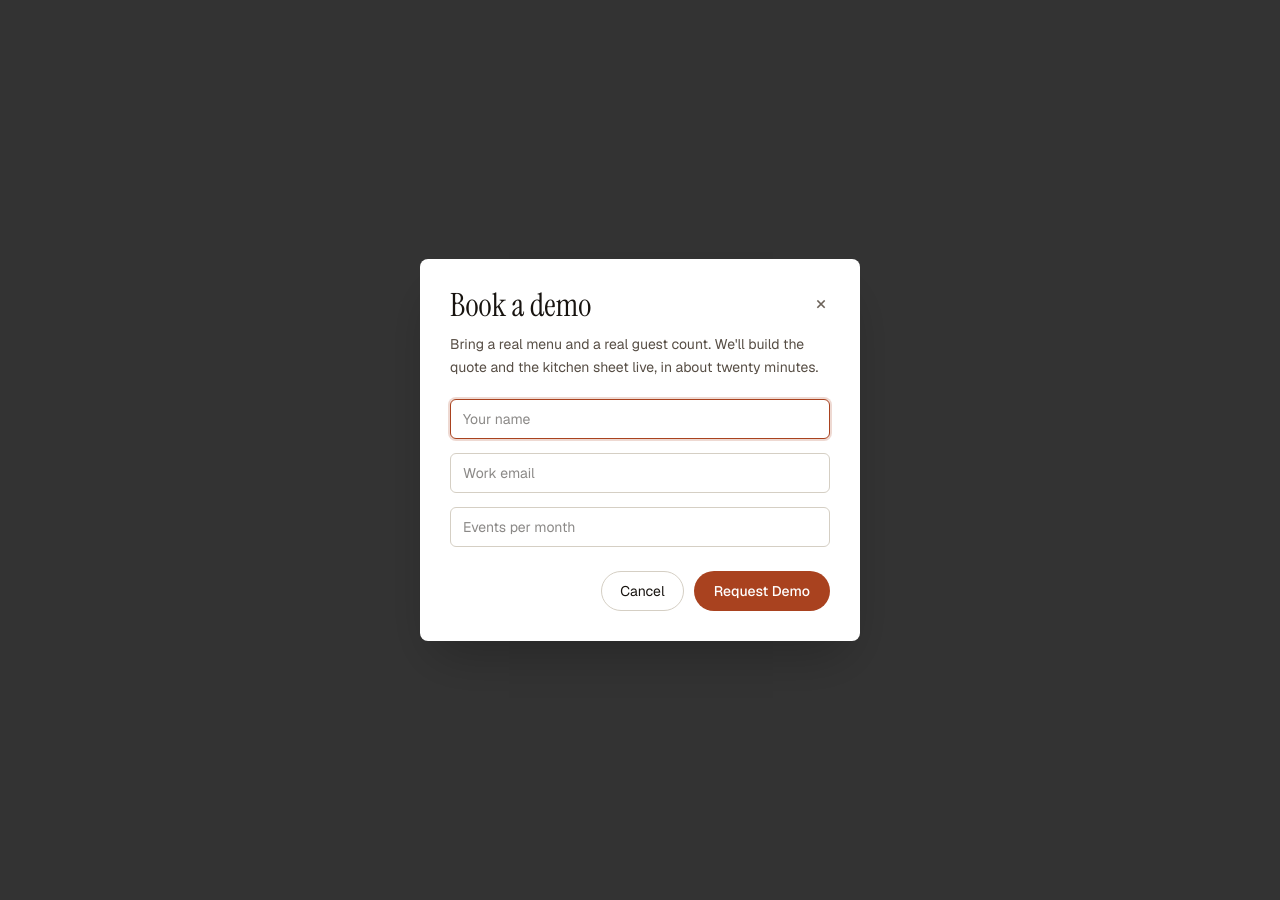
DemoModal (REL-482) › submits the request and shows the success state (AC8)
The image size is (1280, 900).
Type "Jane Doe" into the field labelled "Your name" at (640, 418), box [450,398,830,438]
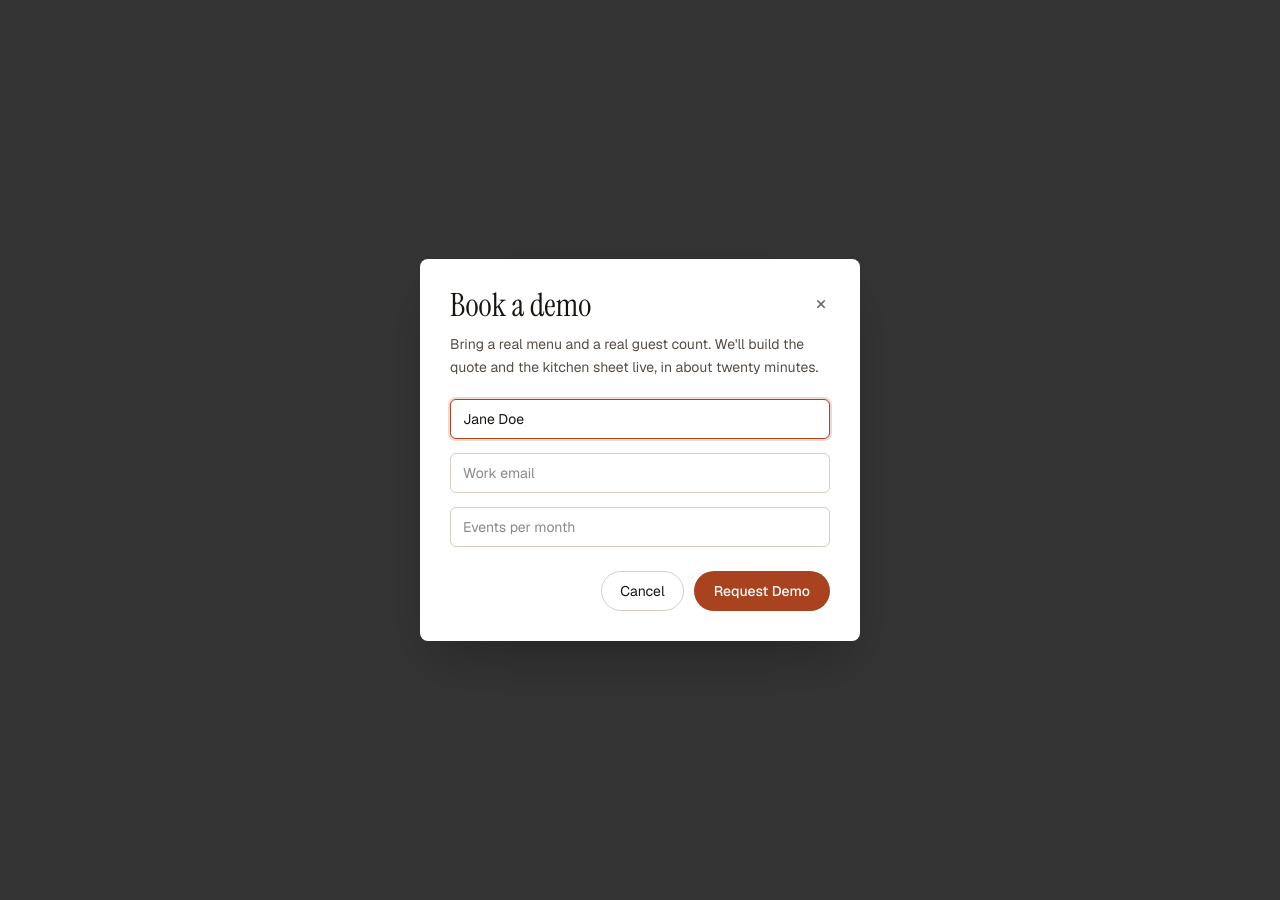
Type "jane@kitchen.com" into the field labelled "Work email" at (640, 472), box [450,452,830,492]
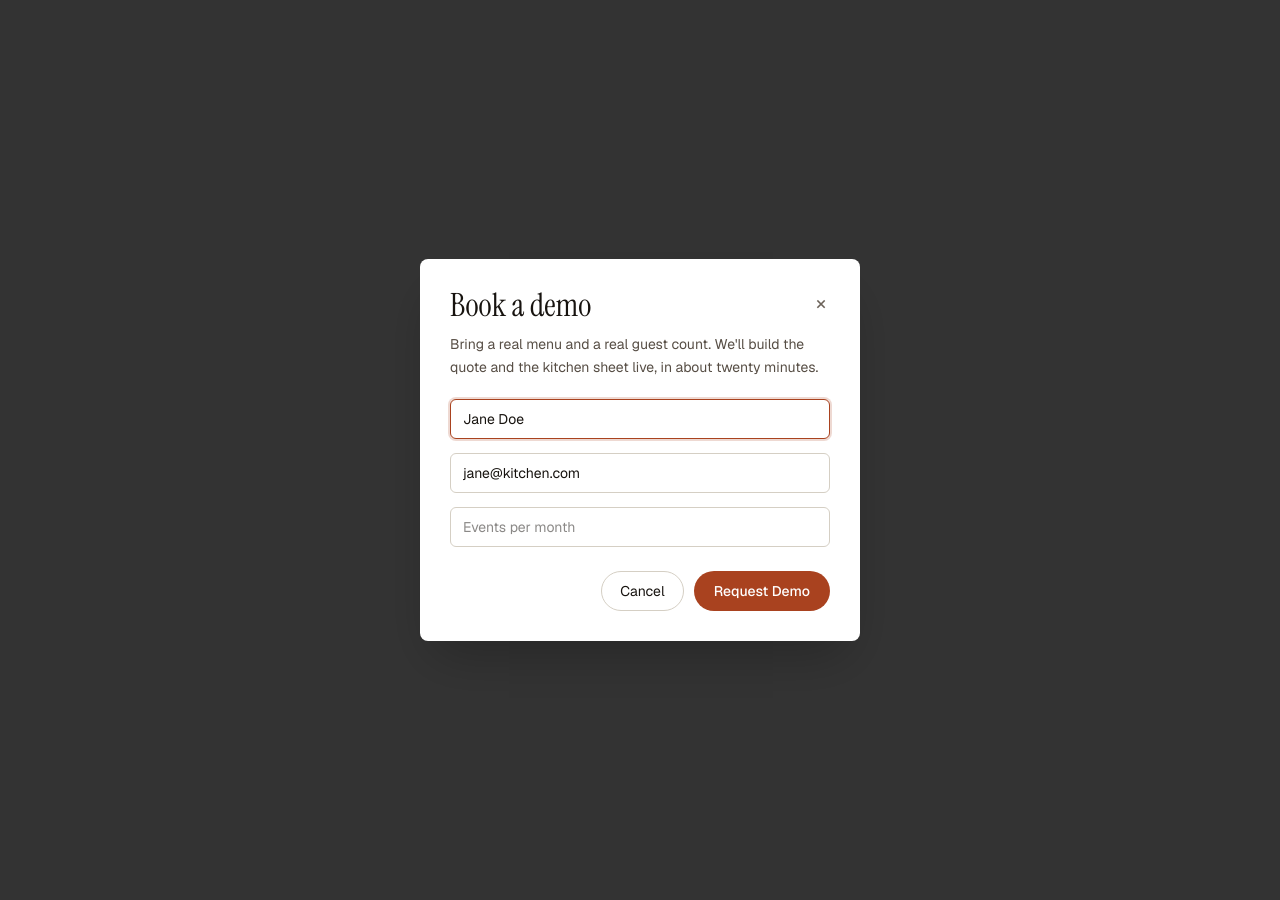
Type "12" into the field labelled "Events per month" at (640, 526), box [450,506,830,546]
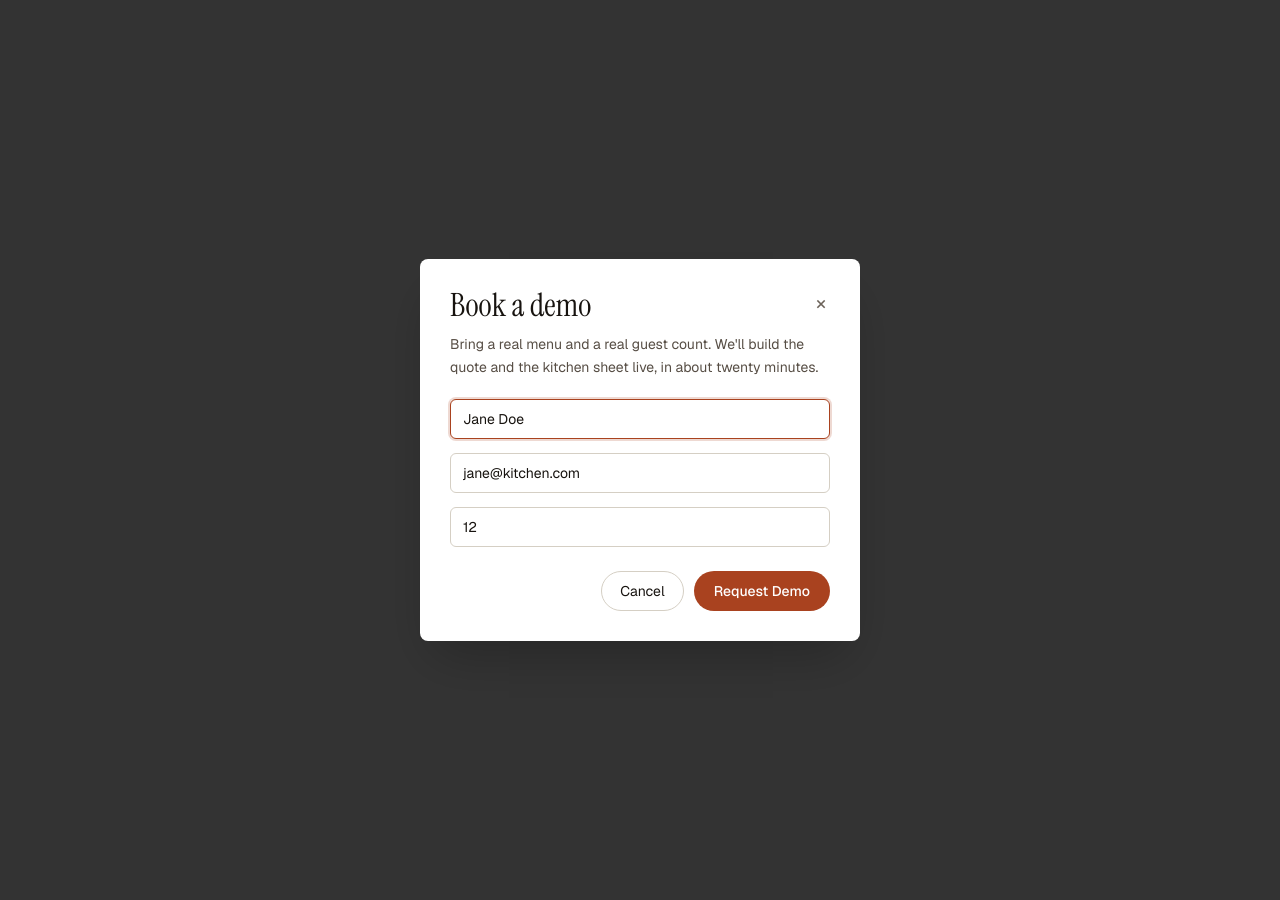
Click the button "Request Demo" at (762, 590), box [694,570,830,610]
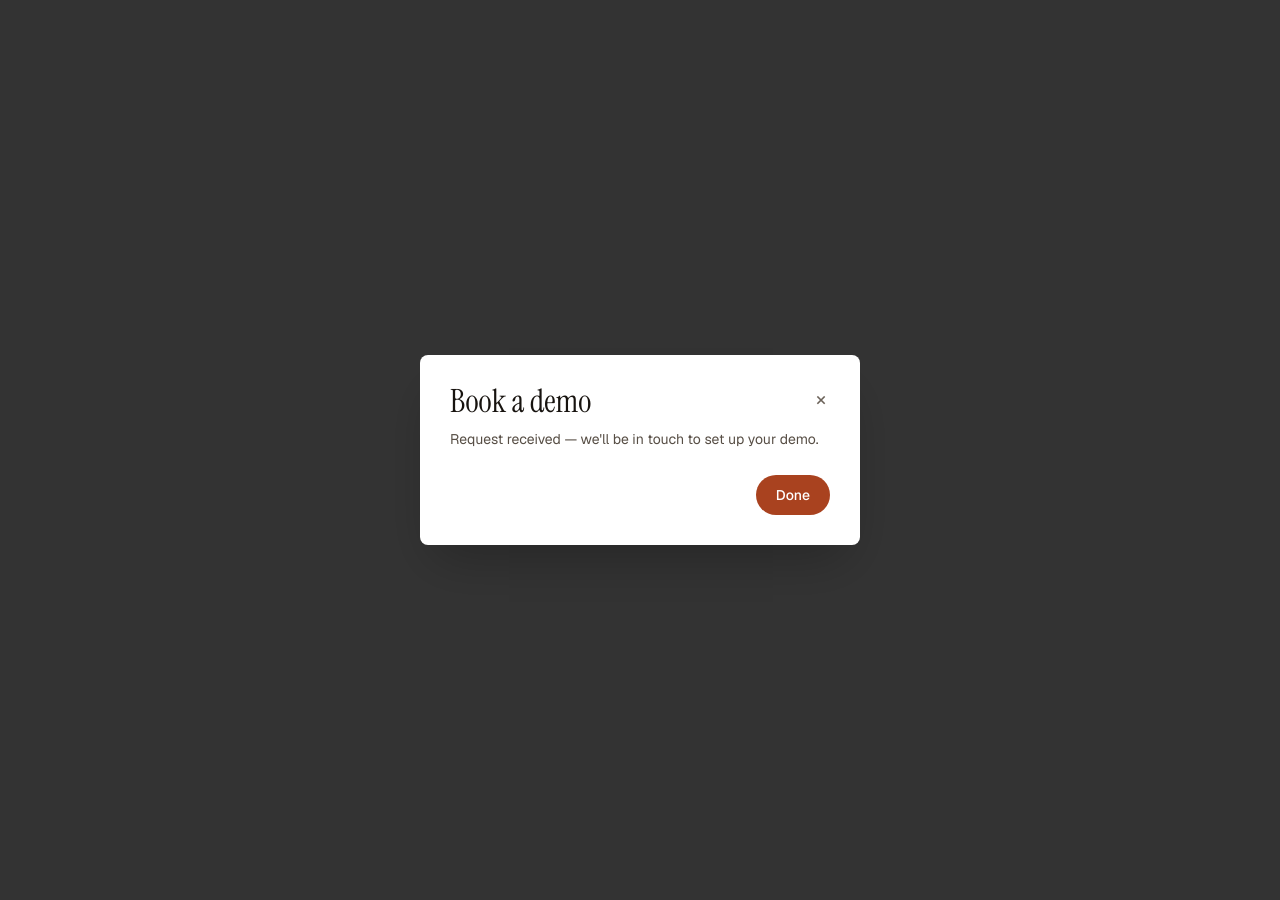
Now the text "Request received — we'll be in touch to set up your demo." is shown, box [450,428,830,451]
